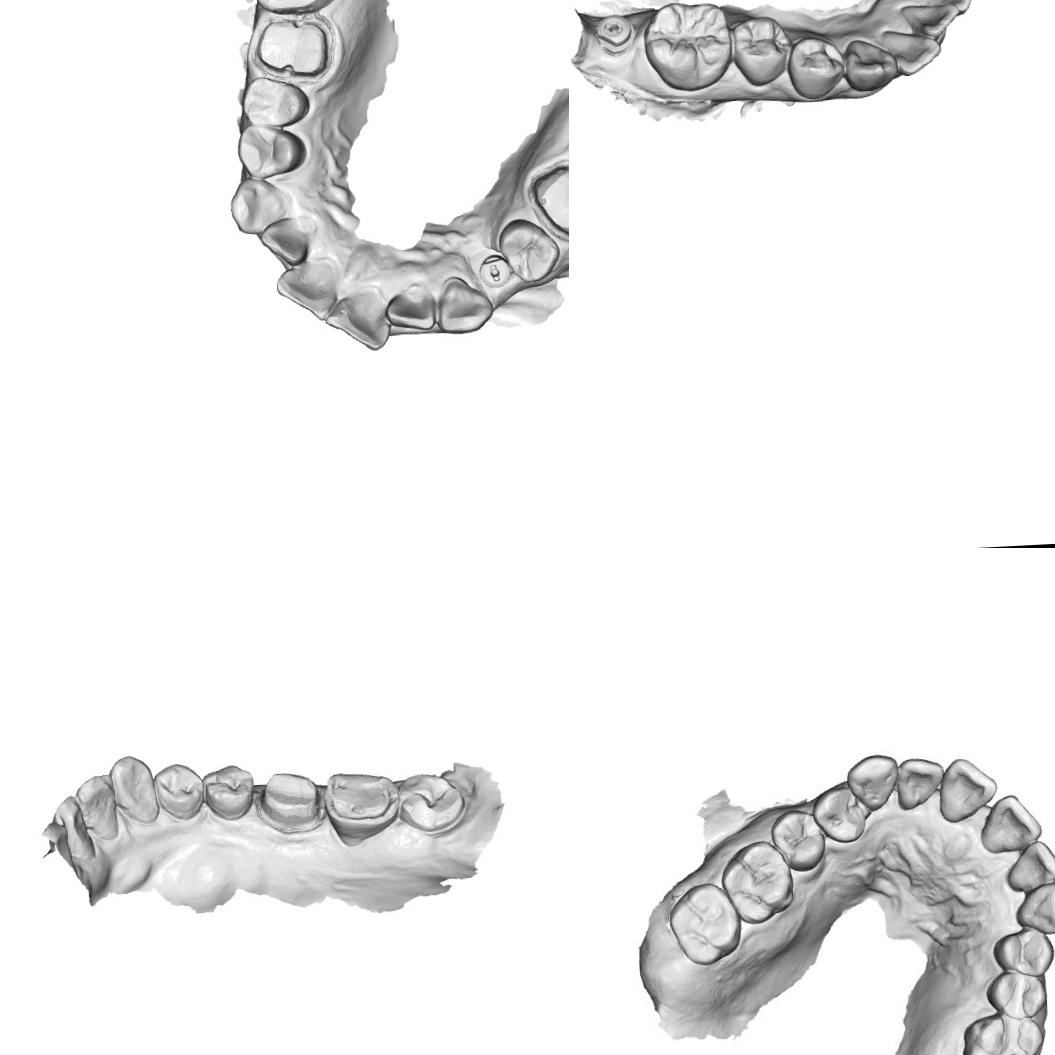canine: (225, 174, 300, 237), (431, 274, 496, 336), (108, 751, 158, 827), (840, 36, 900, 96), (845, 752, 899, 812), (1013, 878, 1055, 935)
crown: (249, 10, 335, 82), (253, 768, 326, 836), (528, 158, 569, 242)
implant_minus: (595, 11, 632, 50), (476, 251, 512, 291)
incisor: (321, 284, 390, 356), (272, 258, 339, 327), (976, 792, 1049, 852), (50, 792, 98, 866), (938, 760, 992, 824), (879, 24, 942, 78), (255, 213, 312, 268), (382, 278, 438, 333), (74, 772, 118, 842), (1002, 837, 1055, 891), (896, 0, 961, 39), (898, 754, 944, 808), (914, 0, 977, 17)
molar: (639, 0, 735, 94), (320, 768, 402, 848), (664, 882, 740, 967), (720, 840, 793, 925), (395, 770, 466, 838), (959, 1010, 1046, 1055), (247, 0, 340, 17)
premolar: (729, 12, 791, 87), (497, 215, 562, 286), (232, 120, 306, 181), (237, 70, 312, 130), (784, 34, 846, 100), (987, 923, 1055, 979), (984, 968, 1051, 1024), (198, 761, 256, 823), (774, 806, 828, 870), (814, 782, 868, 846), (151, 760, 206, 822)
